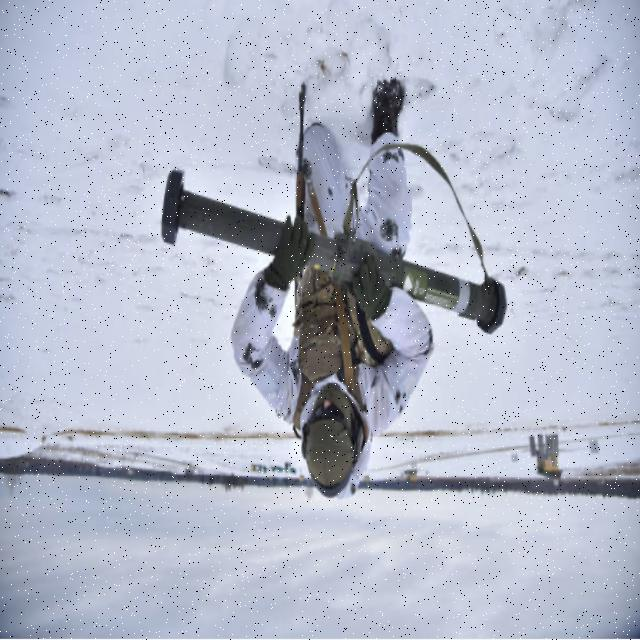bazooka: (143, 138, 532, 358)
